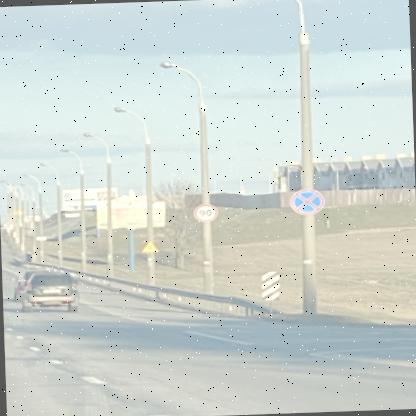speedlimit: (190, 202, 216, 220)
